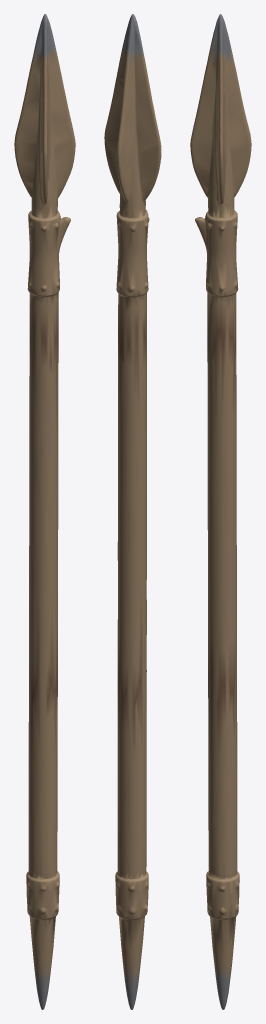
File: pole.glb
3 views of the same model, side by side, from view 1: azimuth 90°, elevation 25°; view 2: azimuth 150°, elevation 25°; view 3: azimuth 270°, elevation 25° (orthographic).
Bounding box in the file's own units: 0.113 × 1.9 × 0.1059.
